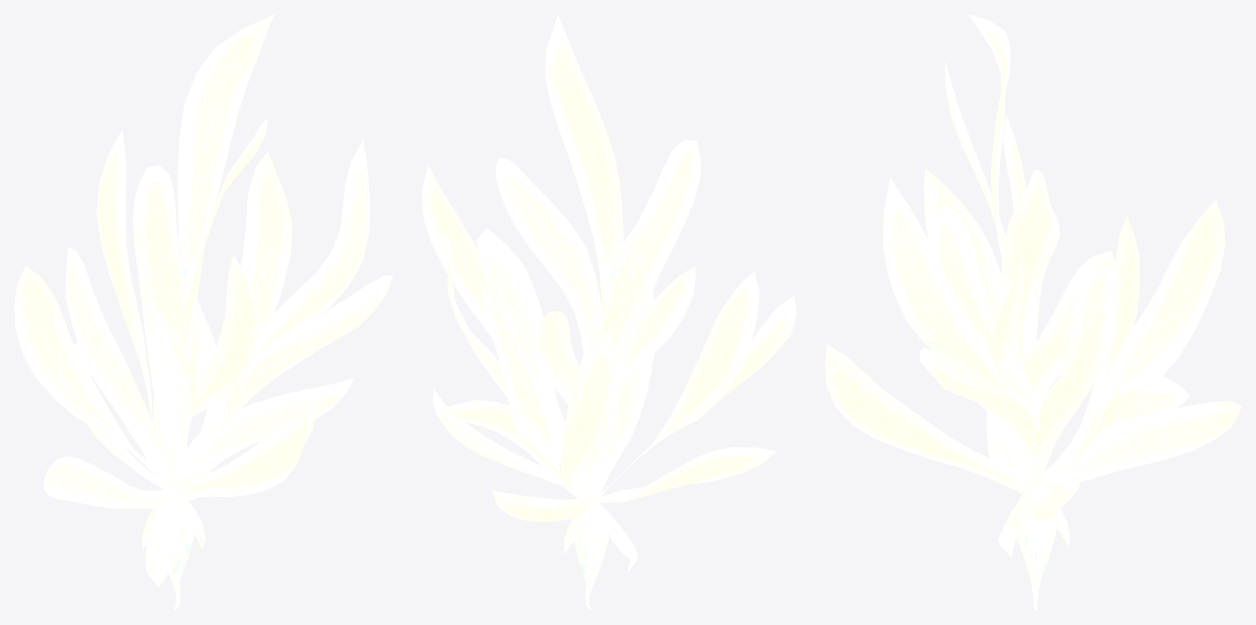
3 views of the same model, side by side, from view 1: azimuth 30°, elevation 25°; view 2: azimuth 150°, elevation 25°; view 3: azimuth 270°, elevation 25° (orthographic). The views are drawn at different scales.
Visible parts, largest first — view 1: SM_Marrentil_LOD0; view 2: SM_Marrentil_LOD0; view 3: SM_Marrentil_LOD0.
Boxes of the visible parts, box(x1,y1,x2,y2) form: SM_Marrentil_LOD0: box(14, 14, 393, 610); SM_Marrentil_LOD0: box(422, 14, 796, 610); SM_Marrentil_LOD0: box(825, 14, 1241, 610).
Size of the model in its own units: 0.5807 by 0.9353 by 0.5589.
1 material, 1 textured.
